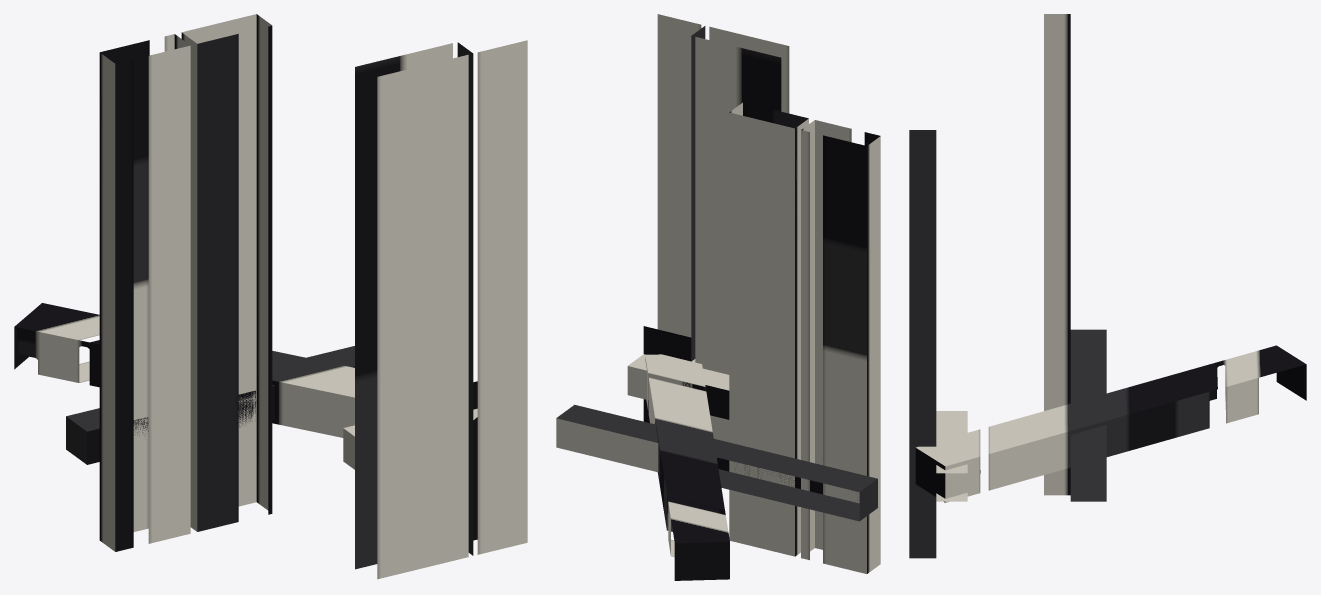
Rendered from section-7.obj.
3 renders of one model, left to right at view 1: azimuth 30°, elevation 25°; view 2: azimuth 150°, elevation 25°; view 3: azimuth 270°, elevation 25°, orthographic. The views are drawn at different scales.
Bounding box in the file's own units: 0.76 × 1.06 × 0.8864.
